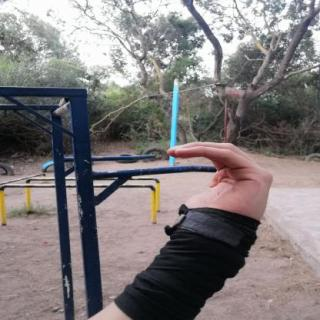HAA: (151, 134, 288, 254)
